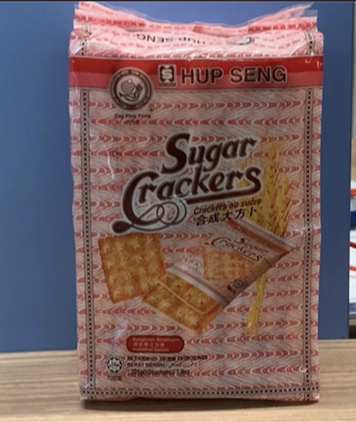crackers_150g: (94, 62, 306, 381)
